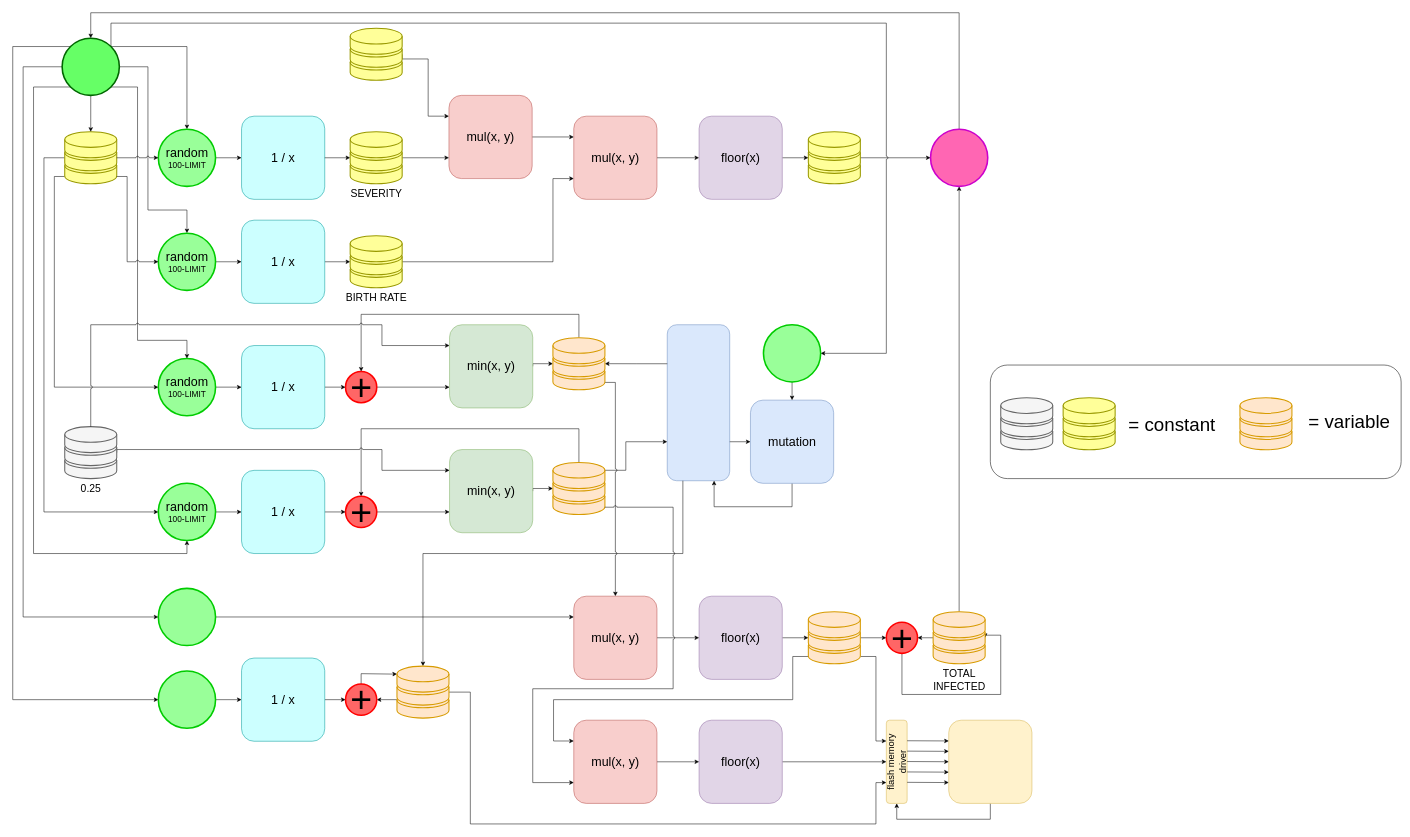
This 1410x837 diagram has some shape labels left out. Each missing label, with the box of its shape:
CURE: (396, 665, 449, 718)
CURE THRESHOLD: (808, 131, 861, 184)
FATALITY: (552, 462, 605, 515)
flash memory: (948, 720, 1032, 803)
INFECTED TODAY: (808, 611, 861, 664)
INFECTIVITY: (552, 337, 605, 390)
LIMIT: (64, 131, 117, 184)
main: (930, 128, 988, 187)
mutation controller: (667, 324, 730, 481)
POPULATION TOTAL: (349, 28, 402, 81)
random 0-8: (762, 324, 821, 382)
random 1-10: (157, 587, 216, 646)
random 2-100: (157, 670, 216, 729)
RNG 100-1023: (61, 37, 120, 96)
